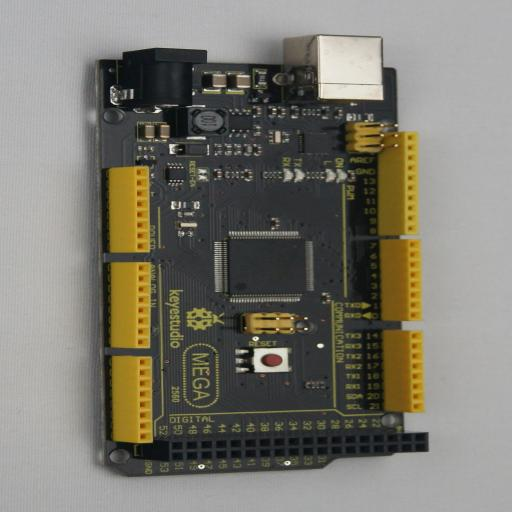Arduino Mega 2560 -Black and Yellow-: (86, 34, 428, 477)
